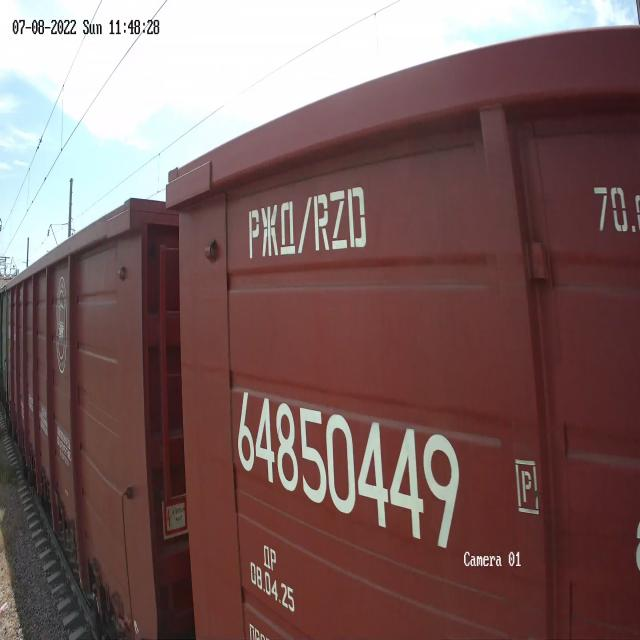gondola: (160, 13, 640, 640), (10, 190, 185, 640)
